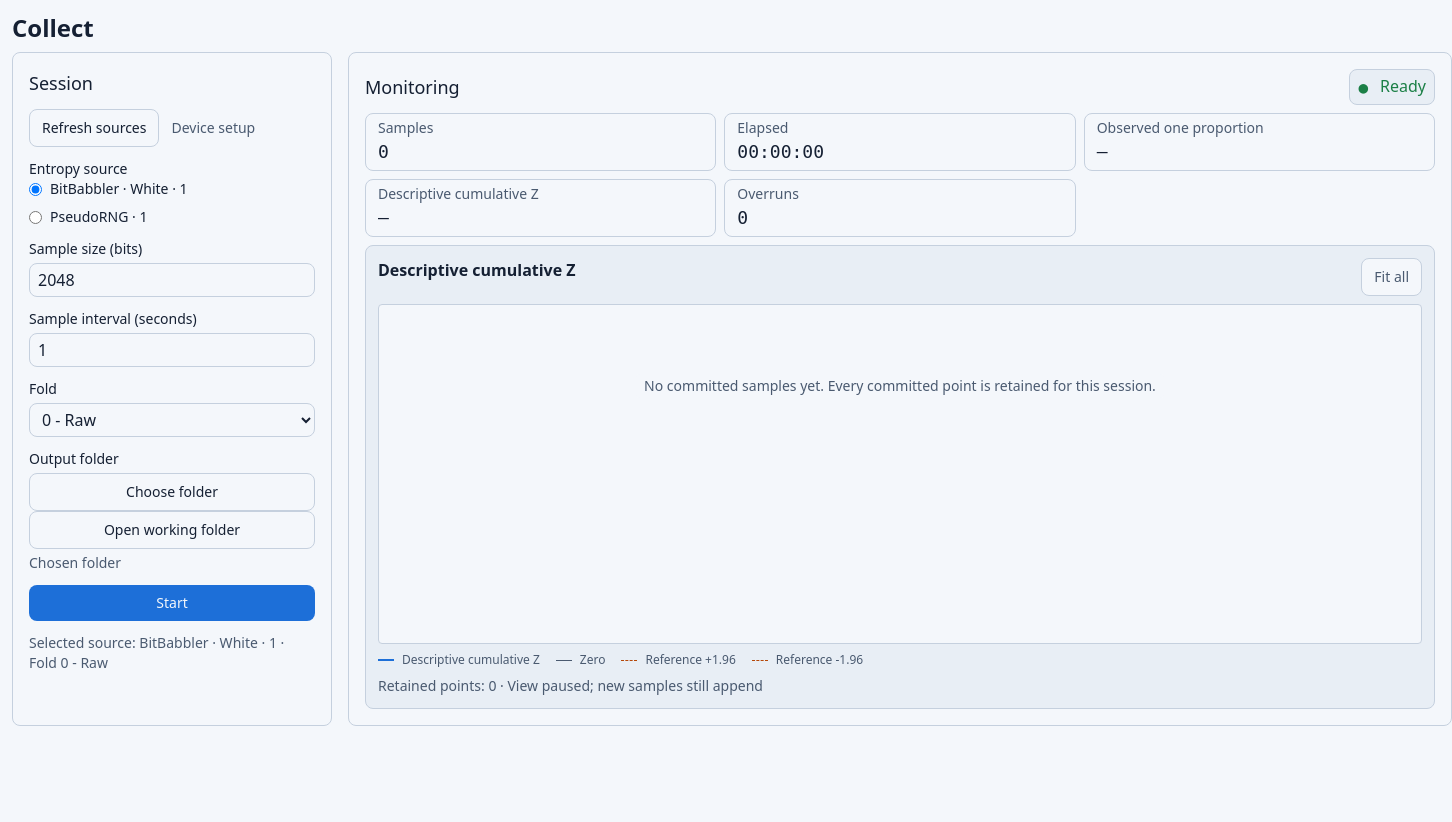
Test: SourceDiscovery › reconciles after a rejected native selection
Click the radio button labelled "PseudoRNG · 1": (36,217) [29, 210, 42, 224]
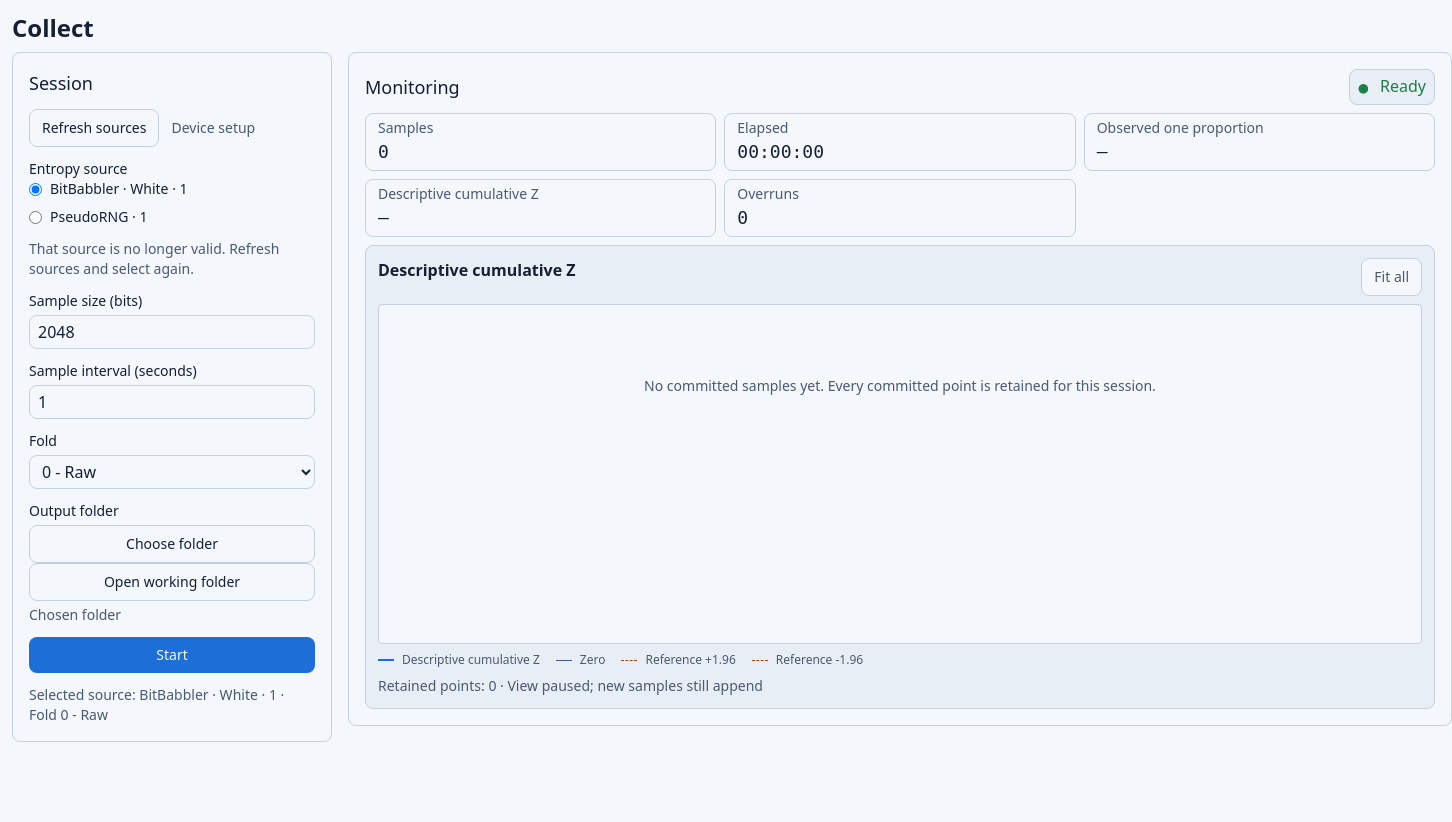
Expected: the radio button labelled "BitBabbler · White · 1" is checked, [29, 182, 42, 196]
Expected: the text "Refresh sources and select again" is shown, [29, 239, 279, 278]
